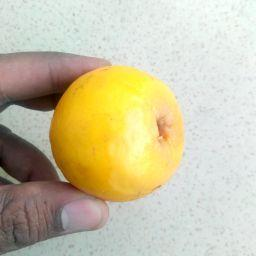Unripe: (45, 61, 183, 200)
